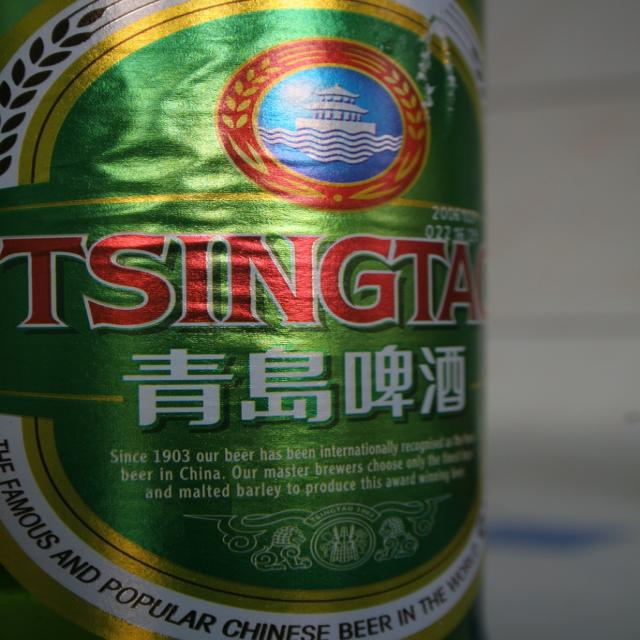tsingtao: (2, 2, 489, 640)
